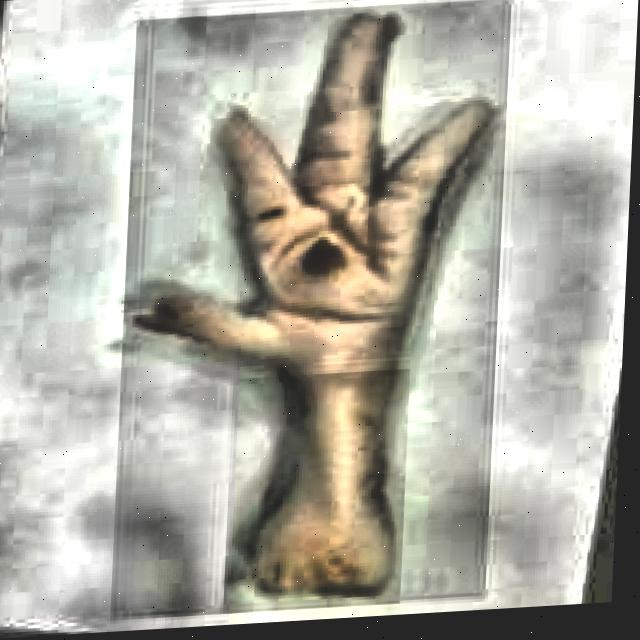Bumble foot: (121, 10, 502, 618)
